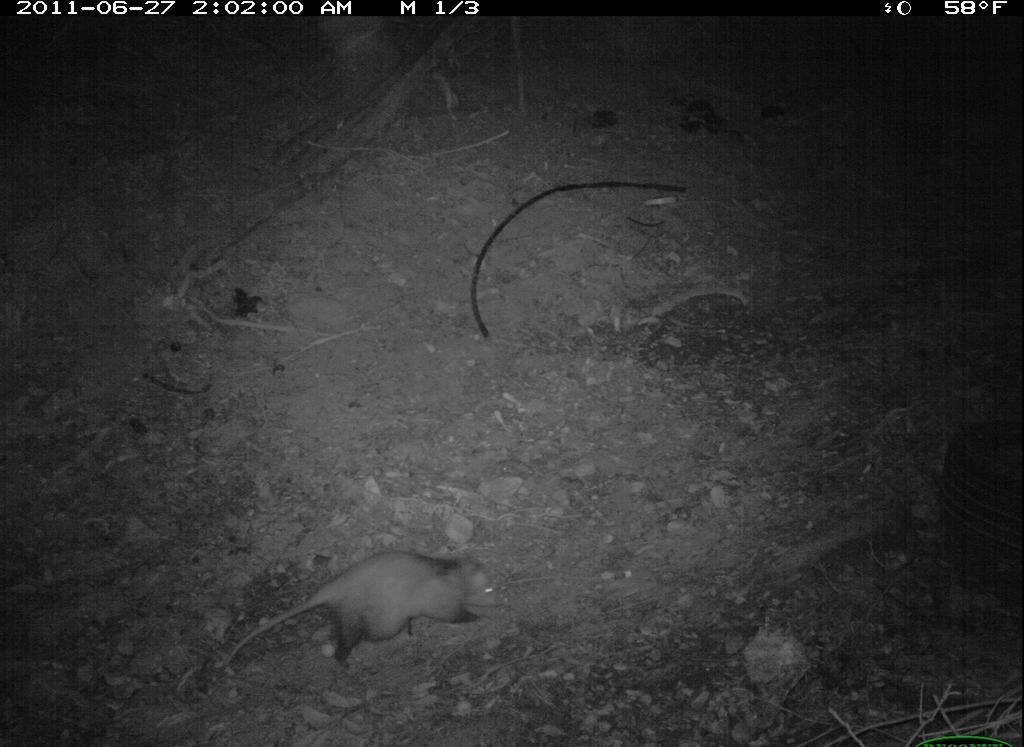opossum: (207, 534, 514, 703)
